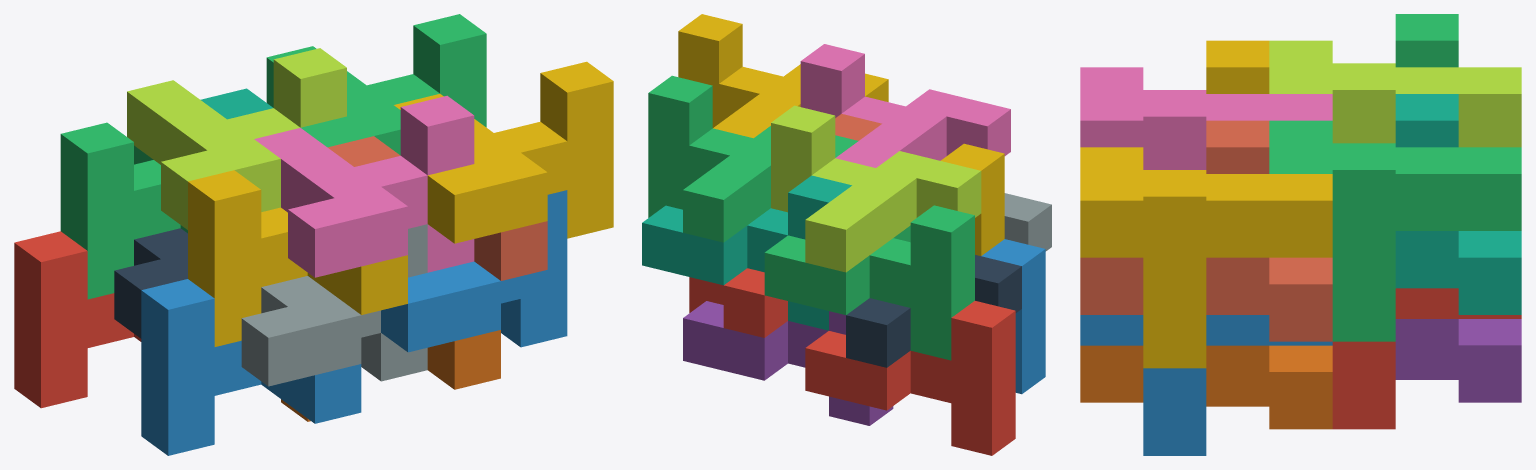
Rendered from tiling.obj.
The picture shows the model from 3 angles, left to right: view 1: azimuth 30°, elevation 25°; view 2: azimuth 150°, elevation 25°; view 3: azimuth 270°, elevation 25°; orthographic projection. The views are drawn at different scales.
Parts seen in each view (by area): view 1: copy_2_domain_4, copy_2_domain_8, copy_2_domain_3, copy_1_domain_2, copy_1_domain_4, copy_2_domain_6, copy_1_domain_1, copy_2_domain_2, copy_1_domain_3, copy_2_domain_7, copy_1_domain_8, copy_2_domain_1 (+2 smaller); view 2: copy_2_domain_3, copy_1_domain_1, copy_1_domain_3, copy_2_domain_7, copy_2_domain_4, copy_1_domain_7, copy_2_domain_8, copy_1_domain_5, copy_2_domain_1, copy_1_domain_2, copy_2_domain_5, copy_1_domain_4 (+2 smaller); view 3: copy_2_domain_8, copy_2_domain_7, copy_1_domain_8, copy_2_domain_3, copy_2_domain_4, copy_1_domain_6, copy_1_domain_7, copy_2_domain_6, copy_1_domain_5, copy_2_domain_5, copy_1_domain_3, copy_1_domain_4.
Boxes of the visible parts, x1,y1,x2,y2 form: copy_2_domain_4: (254, 95, 474, 277); copy_2_domain_8: (394, 61, 613, 243); copy_2_domain_3: (127, 48, 346, 229); copy_1_domain_2: (141, 279, 361, 455); copy_1_domain_4: (188, 170, 407, 346); copy_2_domain_6: (381, 190, 567, 352); copy_1_domain_1: (14, 231, 141, 408); copy_2_domain_2: (241, 224, 427, 386); copy_1_domain_3: (60, 122, 187, 299); copy_2_domain_7: (266, 14, 486, 155); copy_1_domain_8: (328, 136, 547, 280); copy_2_domain_1: (114, 228, 187, 338); copy_2_domain_3: (771, 105, 981, 272); copy_1_domain_1: (805, 301, 1015, 455); copy_1_domain_3: (764, 205, 974, 360); copy_2_domain_7: (648, 75, 858, 242); copy_2_domain_4: (800, 44, 1010, 167); copy_1_domain_7: (642, 175, 851, 330); copy_2_domain_8: (678, 14, 888, 138); copy_1_domain_5: (683, 301, 893, 425); copy_2_domain_1: (846, 255, 1021, 367); copy_1_domain_2: (981, 239, 1045, 394); copy_2_domain_5: (689, 268, 787, 337); copy_1_domain_4: (940, 143, 1004, 255); copy_2_domain_8: (1080, 147, 1332, 368); copy_2_domain_7: (1269, 120, 1521, 341); copy_1_domain_8: (1080, 120, 1332, 341); copy_2_domain_3: (1269, 40, 1521, 147); copy_2_domain_4: (1080, 67, 1332, 169); copy_1_domain_6: (1080, 345, 1332, 429); copy_1_domain_7: (1395, 94, 1521, 314); copy_2_domain_6: (1080, 315, 1332, 455); copy_1_domain_5: (1395, 319, 1521, 402); copy_2_domain_5: (1332, 288, 1521, 429); copy_1_domain_3: (1395, 14, 1458, 67); copy_1_domain_4: (1206, 40, 1269, 93).
Bounding box in the file's own units: 10 × 6 × 7.
